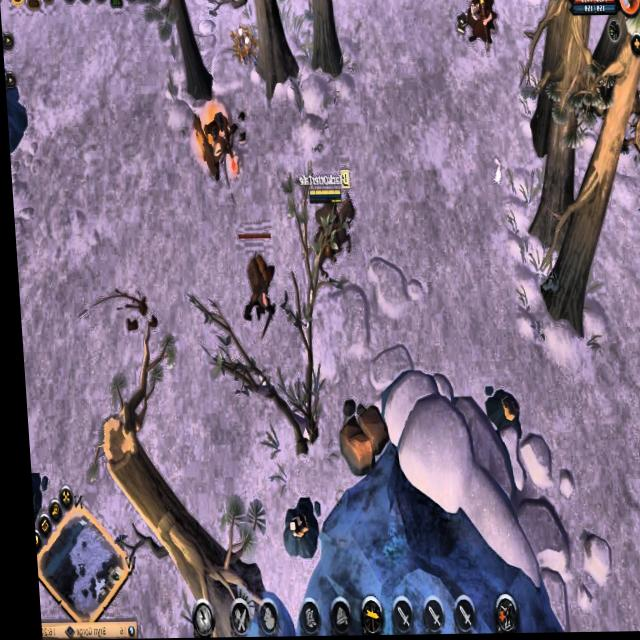copperore: (274, 495, 315, 560), (475, 386, 518, 432), (25, 468, 40, 525)
limestone: (329, 398, 388, 476)
